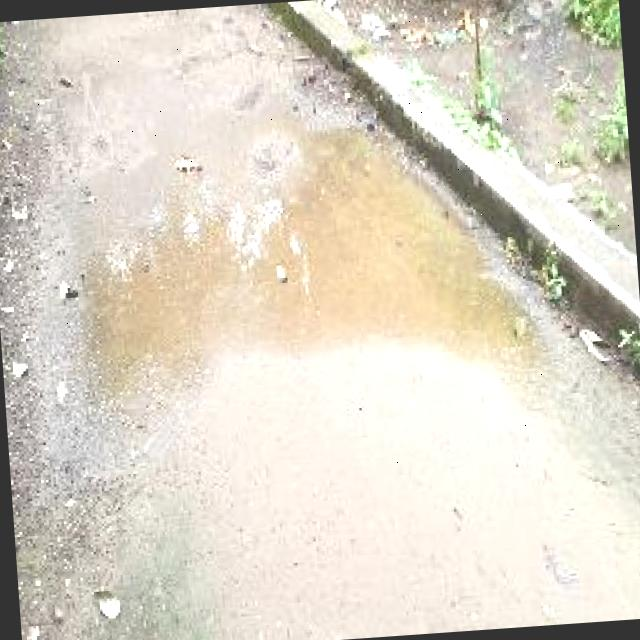stagnation: (41, 93, 579, 445)
